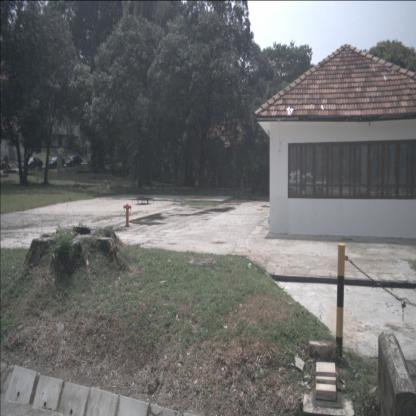vehicle-car: (25, 156, 43, 170), (65, 154, 82, 167), (47, 156, 65, 168)
vehicle-motorcycle: (2, 160, 13, 174)
